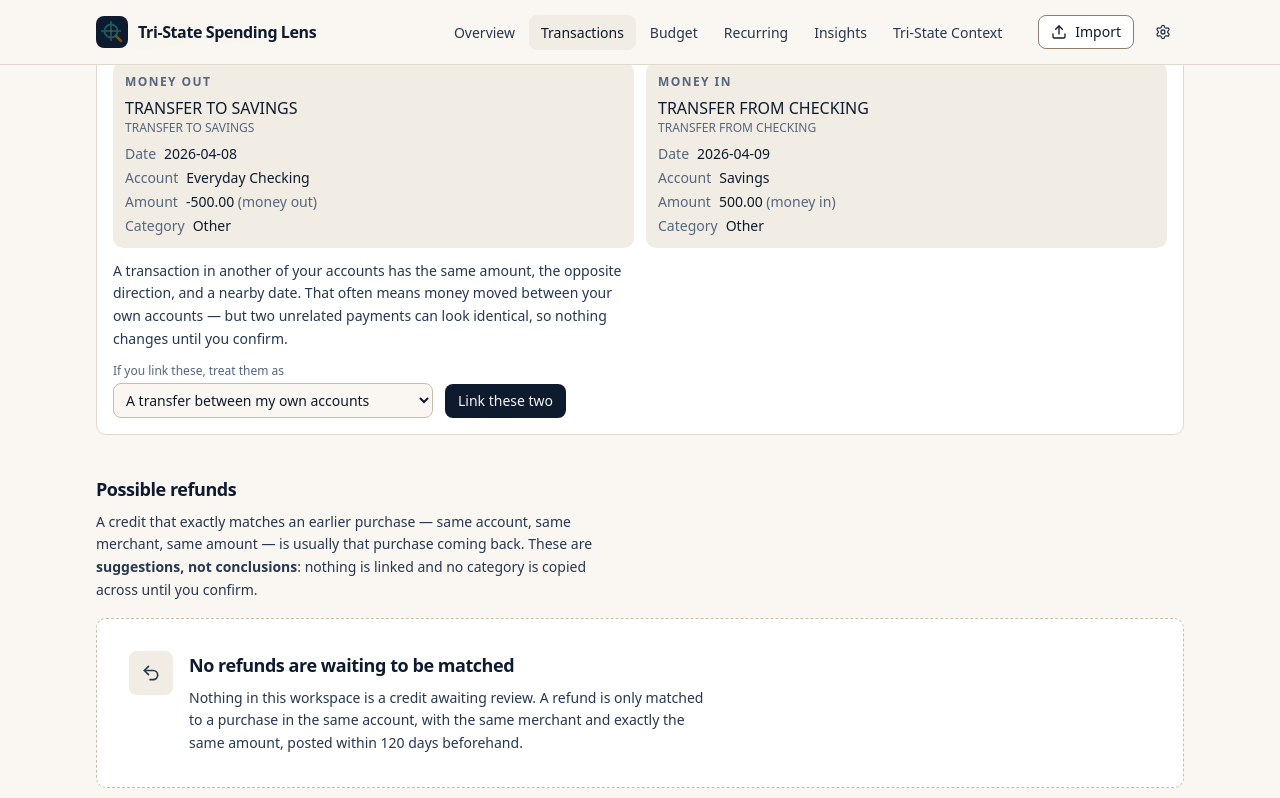
Test: unlinking and undo › shows the confirmed link and explains its spending treatment
The width and height of the screenshot is (1280, 798).
(page scrolled)
Click the button "Link these two": [506, 400] box [445, 384, 566, 418]
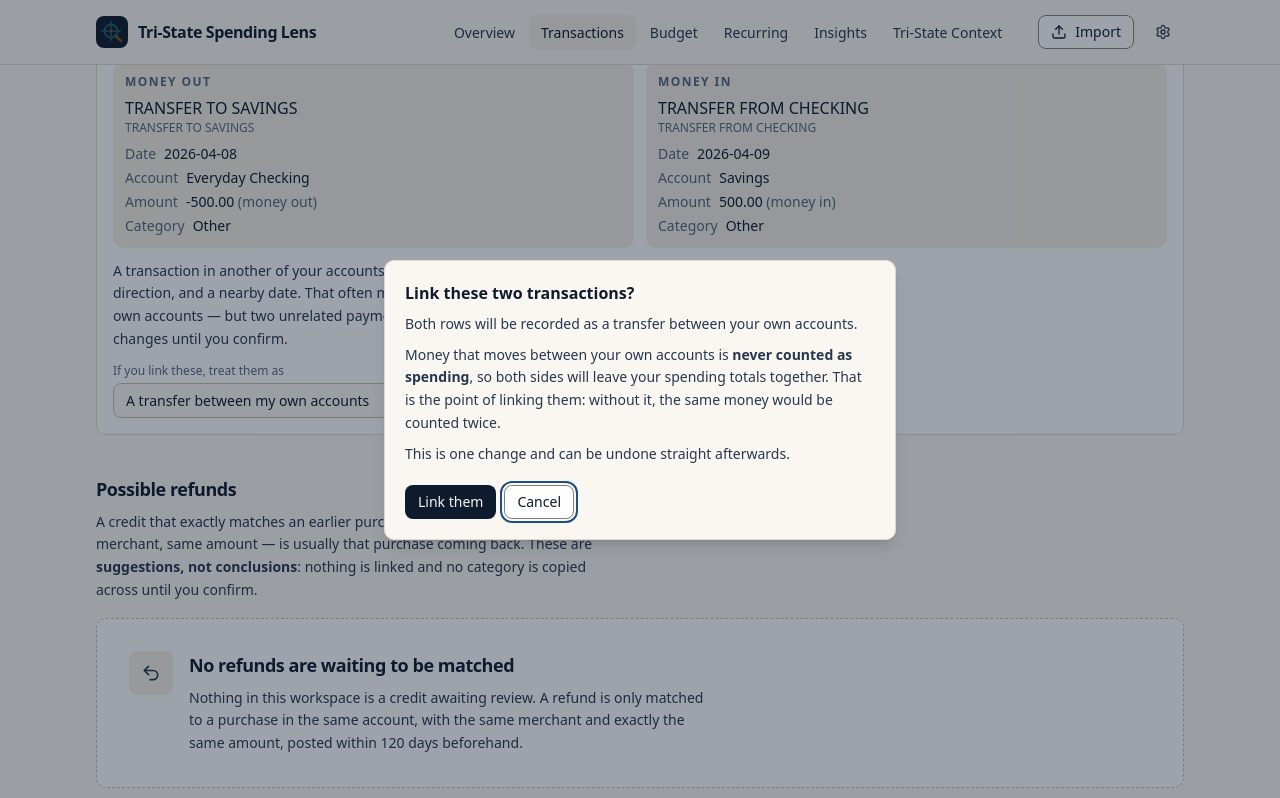
Click the button "Link them": [451, 502] box [405, 485, 496, 519]
(page scrolled)
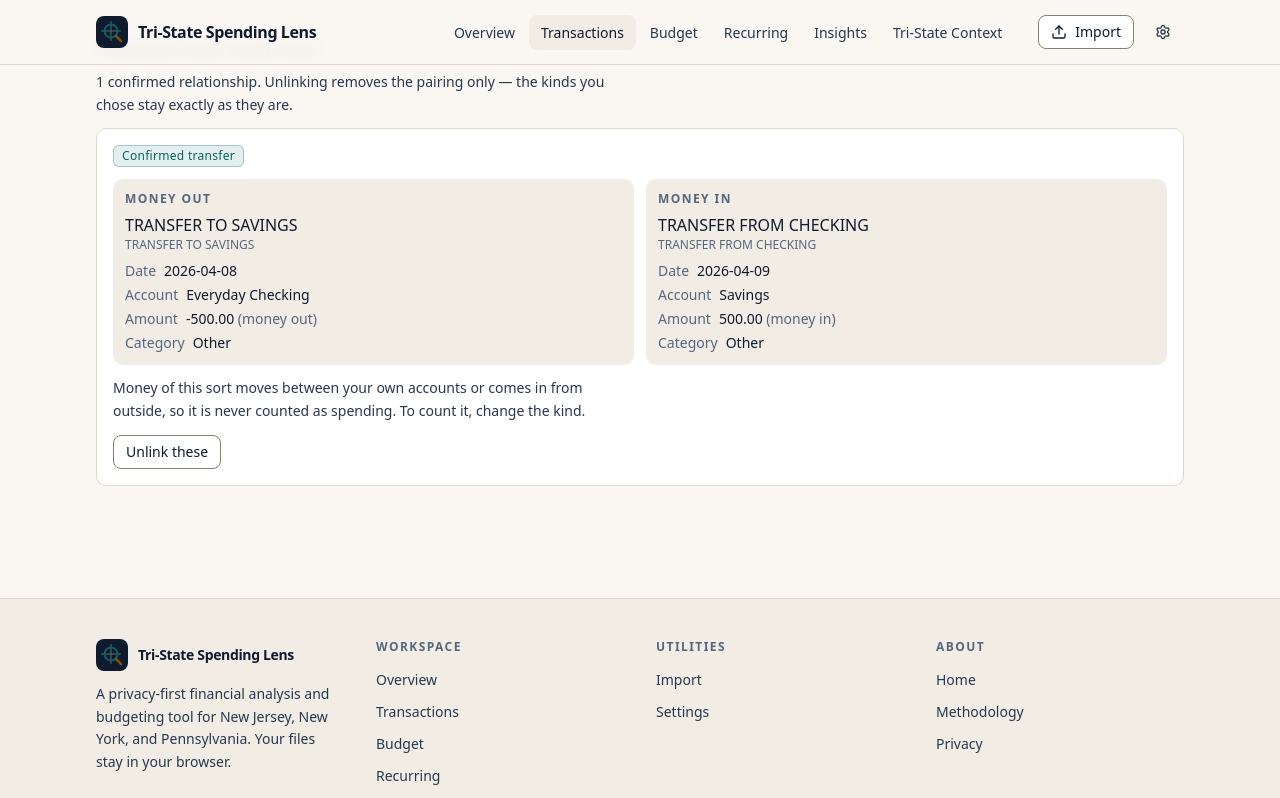
Expected: the heading "Links you have confirmed" is shown, [96, 37, 316, 61]
Expected: the text "Confirmed transfer" is shown, [113, 145, 244, 167]
Expected: the text "never counted as spending" is shown, [113, 378, 585, 420]
